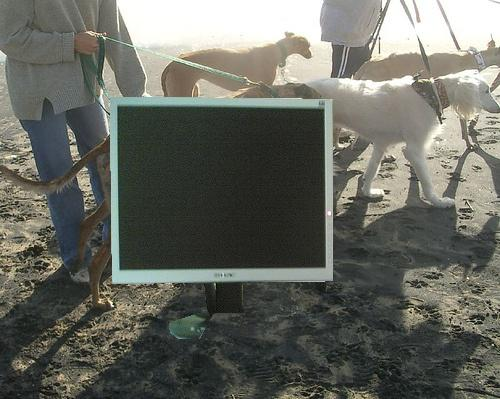tampered: (111, 98, 333, 339)
